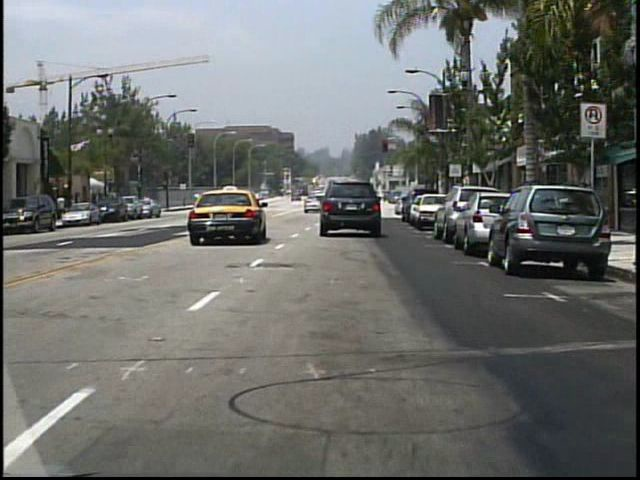person: (59, 193, 69, 222), (324, 191, 336, 213), (256, 190, 268, 211)
